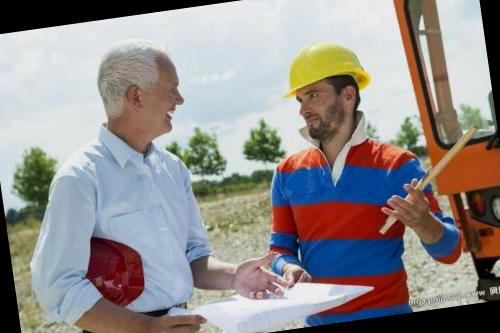no_helmet: (73, 28, 197, 162)
